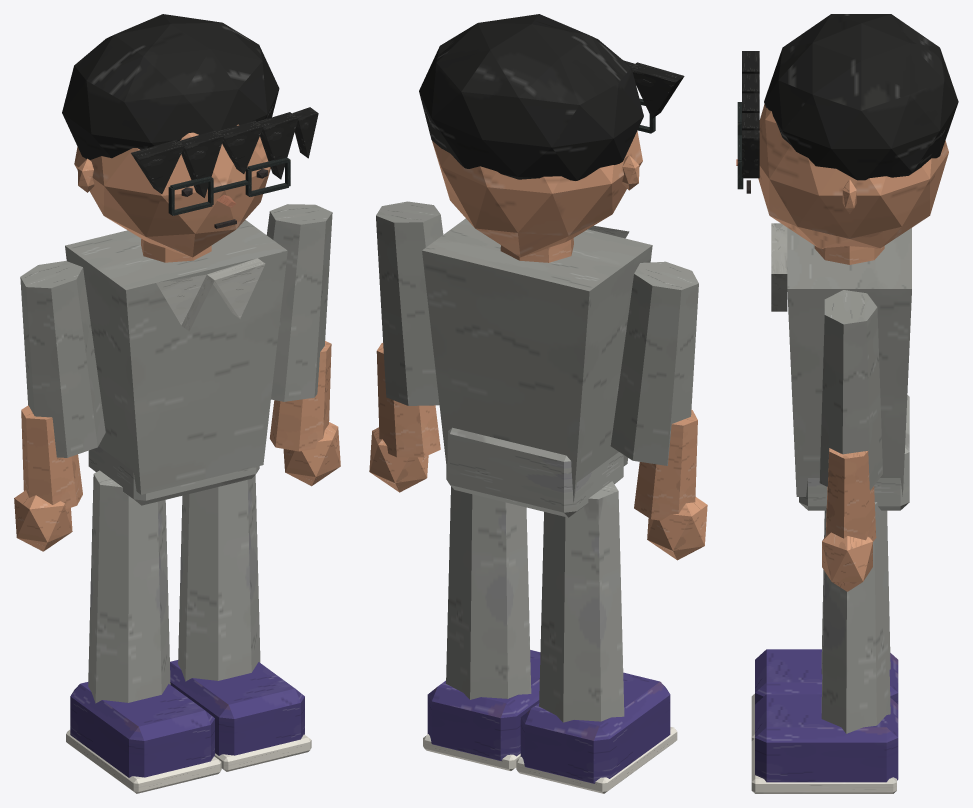
The model's file is person_03.glb.
3 renders of one model, left to right at view 1: azimuth 30°, elevation 25°; view 2: azimuth 150°, elevation 25°; view 3: azimuth 270°, elevation 25°, orthographic. The views are drawn at different scales.
Parts seen in each view (by area): view 1: GEO_Torso, GEO_Hair_Cap, GEO_PantsLeg_L, GEO_PantsLeg_R, GEO_UpperArm_L, GEO_Head, GEO_Shoe_L, GEO_UpperArm_R, GEO_Shoe_R, GEO_Forearm_L, GEO_Forearm_R, GEO_Waist (+12 smaller); view 2: GEO_Torso, GEO_Hair_Cap, GEO_PantsLeg_L, GEO_PantsLeg_R, GEO_UpperArm_L, GEO_Head, GEO_UpperArm_R, GEO_Shoe_L, GEO_Waist, GEO_Shoe_R, GEO_Forearm_L, GEO_Forearm_R (+6 smaller); view 3: GEO_Hair_Cap, GEO_Torso, GEO_Head, GEO_PantsLeg_R, GEO_Shoe_R, GEO_UpperArm_R, GEO_Forearm_R, GEO_Shoe_L, GEO_Hand_R, GEO_Waist, GEO_Sole_R, GEO_Collar_R (+5 smaller).
Part boxes in pixels (x1=…): GEO_Torso: x1=65, y1=219, x2=287, y2=494; GEO_Hair_Cap: x1=62, y1=14, x2=279, y2=159; GEO_PantsLeg_L: x1=88, y1=470, x2=170, y2=703; GEO_PantsLeg_R: x1=178, y1=475, x2=260, y2=681; GEO_UpperArm_L: x1=20, y1=261, x2=105, y2=457; GEO_Head: x1=74, y1=124, x2=270, y2=257; GEO_Shoe_L: x1=70, y1=682, x2=214, y2=777; GEO_UpperArm_R: x1=266, y1=204, x2=332, y2=401; GEO_Shoe_R: x1=170, y1=660, x2=304, y2=755; GEO_Forearm_L: x1=21, y1=405, x2=82, y2=508; GEO_Forearm_R: x1=269, y1=341, x2=331, y2=451; GEO_Waist: x1=88, y1=446, x2=259, y2=505; GEO_Torso: x1=422, y1=218, x2=652, y2=502; GEO_Hair_Cap: x1=419, y1=14, x2=643, y2=180; GEO_PantsLeg_L: x1=539, y1=481, x2=624, y2=722; GEO_PantsLeg_R: x1=446, y1=486, x2=531, y2=699; GEO_UpperArm_L: x1=610, y1=261, x2=698, y2=465; GEO_Head: x1=432, y1=131, x2=642, y2=257; GEO_UpperArm_R: x1=376, y1=201, x2=443, y2=405; GEO_Shoe_L: x1=520, y1=672, x2=670, y2=783; GEO_Waist: x1=446, y1=427, x2=623, y2=517; GEO_Shoe_R: x1=427, y1=650, x2=540, y2=760; GEO_Forearm_L: x1=634, y1=409, x2=697, y2=520; GEO_Forearm_R: x1=376, y1=343, x2=440, y2=457; GEO_Hair_Cap: x1=764, y1=14, x2=958, y2=180; GEO_Torso: x1=787, y1=228, x2=911, y2=496; GEO_Head: x1=758, y1=104, x2=948, y2=248; GEO_PantsLeg_R: x1=821, y1=502, x2=890, y2=733; GEO_Shoe_R: x1=755, y1=694, x2=898, y2=782; GEO_UpperArm_R: x1=819, y1=290, x2=882, y2=490; GEO_Forearm_R: x1=826, y1=448, x2=876, y2=541; GEO_Shoe_L: x1=755, y1=649, x2=898, y2=704; GEO_Hand_R: x1=822, y1=532, x2=872, y2=591; GEO_Waist: x1=799, y1=395, x2=909, y2=510; GEO_Sole_R: x1=751, y1=738, x2=896, y2=793; GEO_Collar_R: x1=771, y1=252, x2=787, y2=311.
Bounding box in the file's own units: 0.8221 × 1.74 × 0.4811.
1 material, 1 textured.
